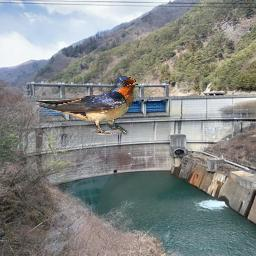Swallow: (36, 76, 140, 135)
